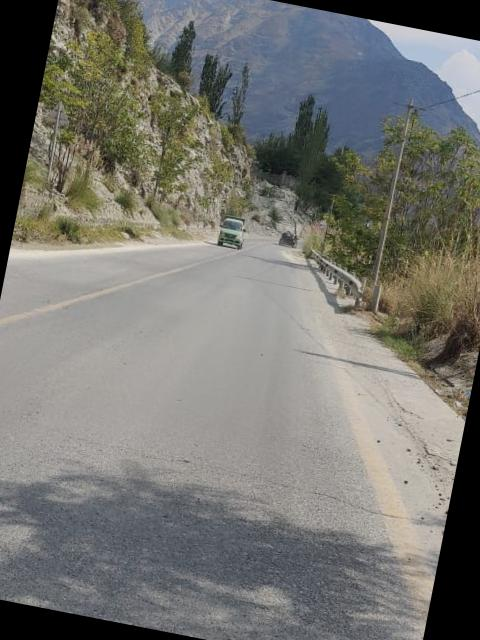sharp_turn: (0, 137, 374, 640)
